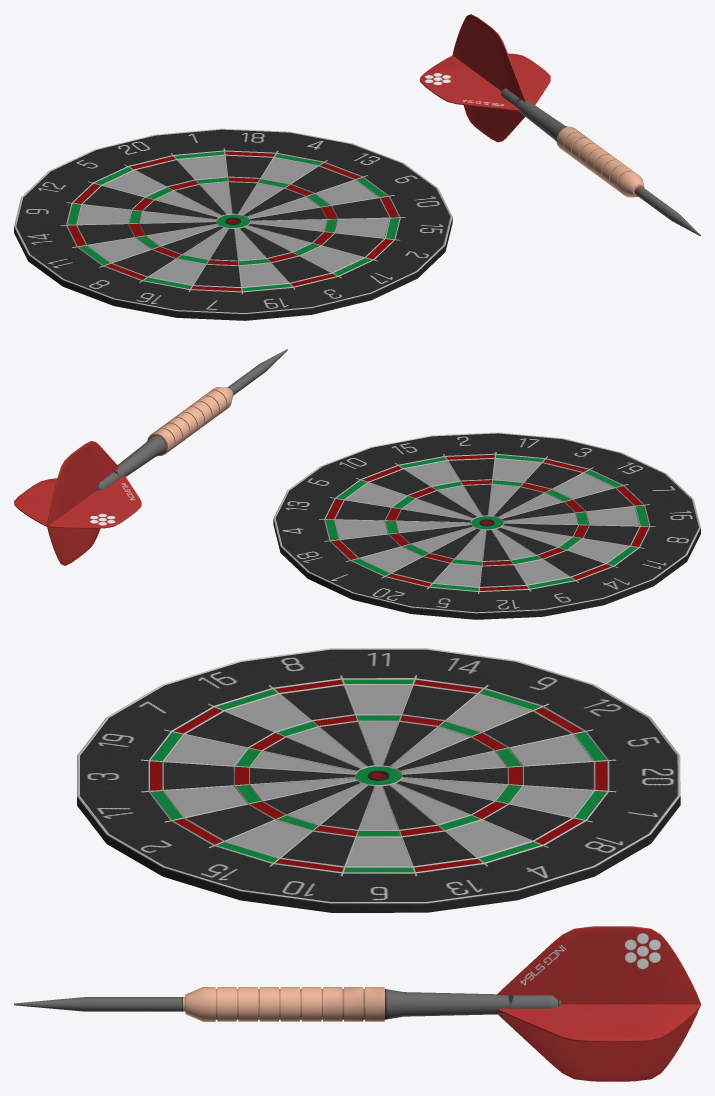
File: dardos.glb
3 renders of one model, top to bottom at view 1: azimuth 30°, elevation 25°; view 2: azimuth 150°, elevation 25°; view 3: azimuth 270°, elevation 25°, orthographic. The views are drawn at different scales.
Parts seen in each view (by area): view 1: darts_0, wing.001_3, arrow_1, wing_2; view 2: darts_0, wing.001_3, wing_2, arrow_1; view 3: darts_0, wing.001_3, arrow_1, wing_2.
Boxes of the visible parts, x1,y1,x2,y2 form: darts_0: (14, 128, 452, 320); wing.001_3: (452, 14, 526, 142); arrow_1: (501, 88, 700, 236); wing_2: (419, 53, 550, 111); darts_0: (273, 432, 700, 619); wing.001_3: (47, 441, 119, 565); wing_2: (14, 475, 141, 528); arrow_1: (97, 349, 287, 490); darts_0: (77, 648, 680, 912); wing.001_3: (497, 926, 700, 1081); arrow_1: (14, 987, 560, 1021); wing_2: (496, 1004, 700, 1041).
Size of the model in its own units: 4.88 by 0.9007 by 3.61.
1 material, 1 textured.
